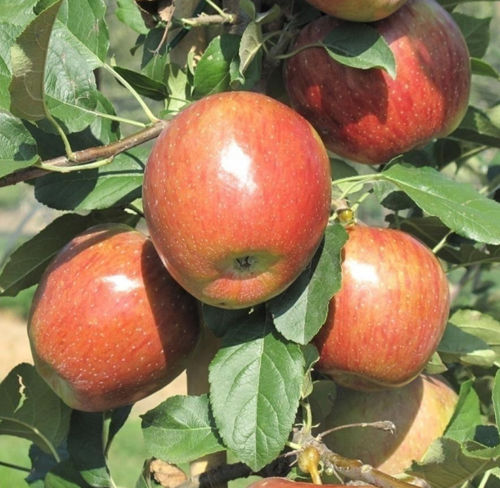1: (304, 375, 476, 486), (305, 0, 418, 25)
Apple: (137, 88, 331, 310), (26, 219, 199, 416), (280, 9, 474, 163), (317, 215, 466, 391)
